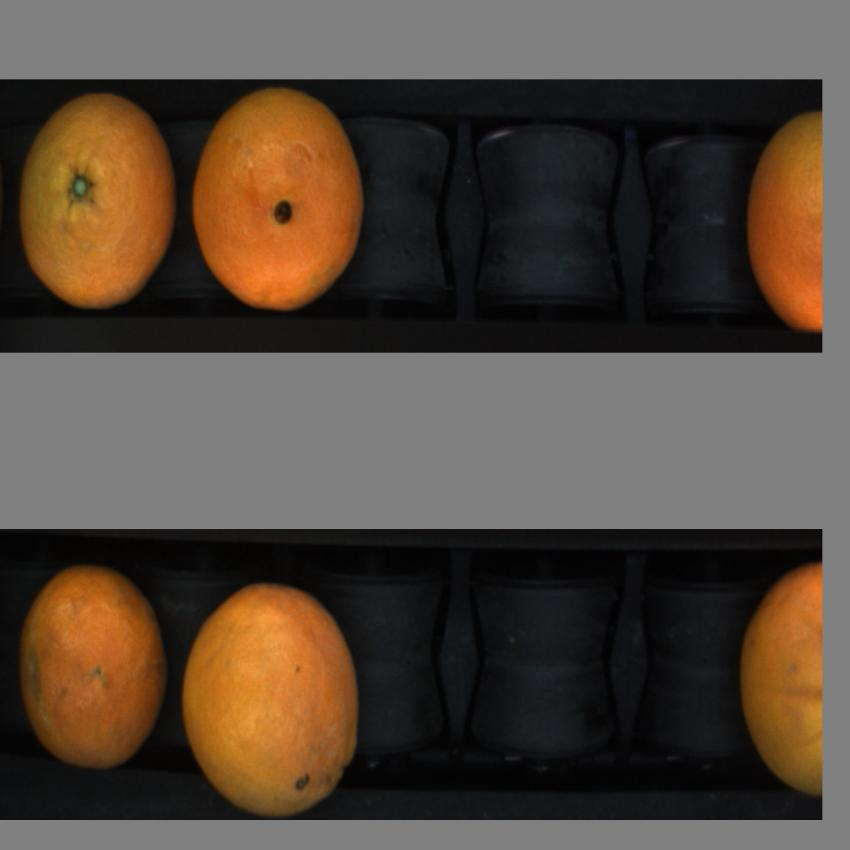Buen estado: (186, 81, 372, 315), (13, 84, 181, 325), (732, 558, 822, 805), (739, 100, 824, 342)
Mal estado: (172, 576, 370, 822), (10, 557, 174, 783)
